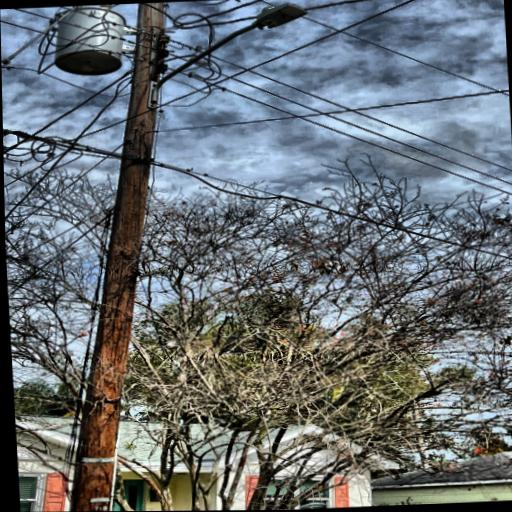pole: (0, 1, 209, 512)
street light: (138, 1, 316, 112)
transformer: (50, 4, 130, 77)
